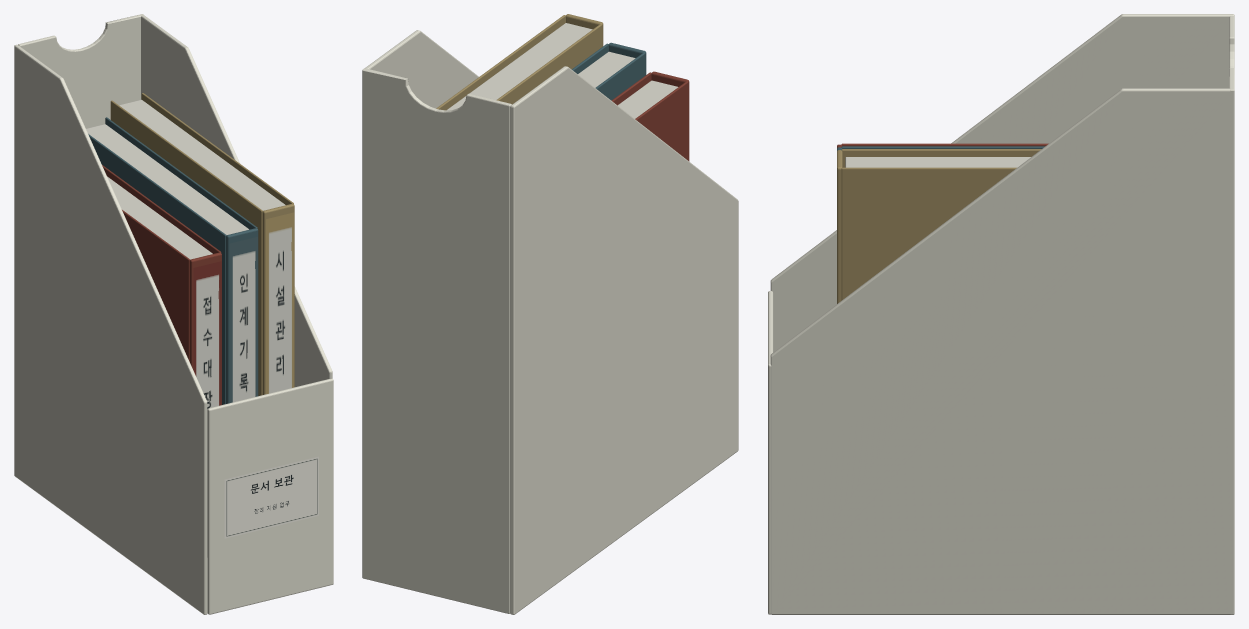
File: File_Box_Ivory_Records.fbx
3 renders of one model, left to right at view 1: azimuth 30°, elevation 25°; view 2: azimuth 150°, elevation 25°; view 3: azimuth 270°, elevation 25°, orthographic. The views are drawn at different scales.
Parts seen in each view (by area): view 1: File_Box_Ivory_Records; view 2: File_Box_Ivory_Records; view 3: File_Box_Ivory_Records.
Boxes of the visible parts, <box> form: File_Box_Ivory_Records: <box>14,14,333,614</box>; File_Box_Ivory_Records: <box>362,14,738,614</box>; File_Box_Ivory_Records: <box>768,14,1234,614</box>.
Bounding box in the file's own units: 0.0958 × 0.306 × 0.2467.
10 materials, 4 textured.
